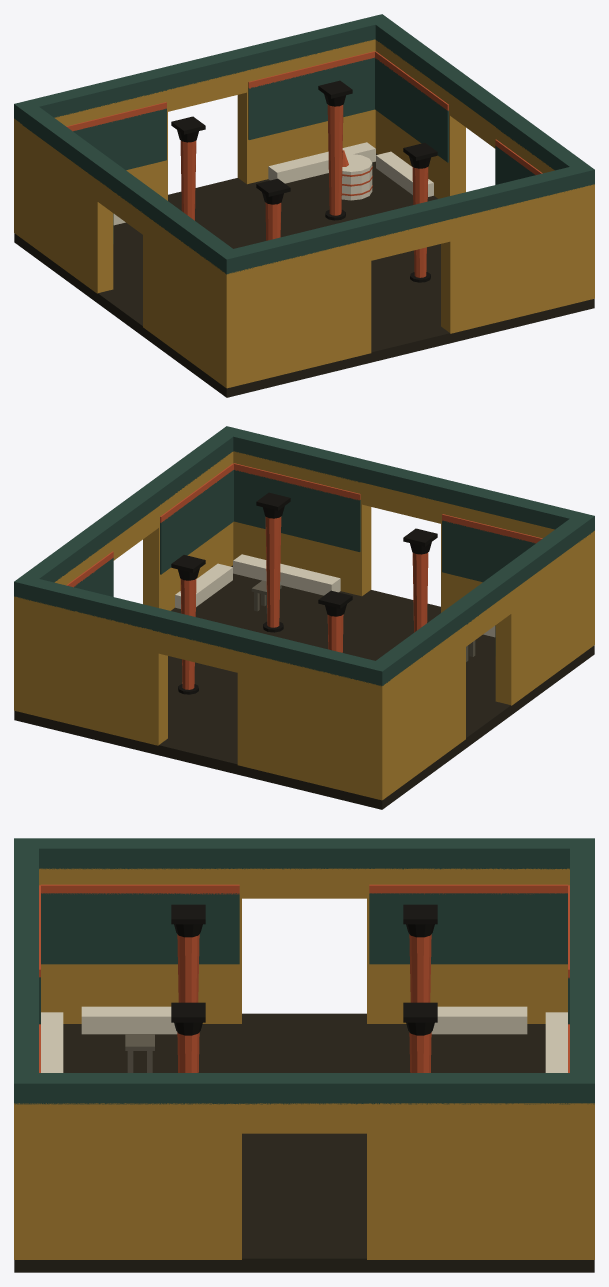
Rendered from BronzeFrescoCourt.fbx.
3 views of the same model, one above another, from view 1: azimuth 30°, elevation 25°; view 2: azimuth 150°, elevation 25°; view 3: azimuth 270°, elevation 25° (orthographic). The views are drawn at different scales.
Visible parts, largest first — view 1: BronzeFrescoCourt; view 2: BronzeFrescoCourt; view 3: BronzeFrescoCourt.
Boxes of the visible parts, x1,y1,x2,y2 form: BronzeFrescoCourt: (14, 14, 594, 397); BronzeFrescoCourt: (14, 426, 594, 809); BronzeFrescoCourt: (14, 838, 594, 1272).
Bounding box in the file's own units: 1202 × 432 × 1202.
Materials: 7 (7 with a texture image).
